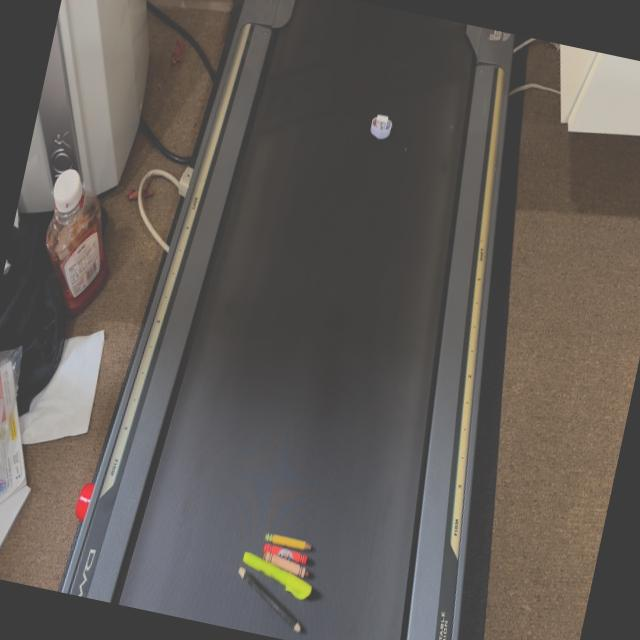Trash: (222, 518, 330, 639), (365, 110, 399, 144)
